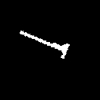half_double_crochet: (20, 31, 68, 57)
